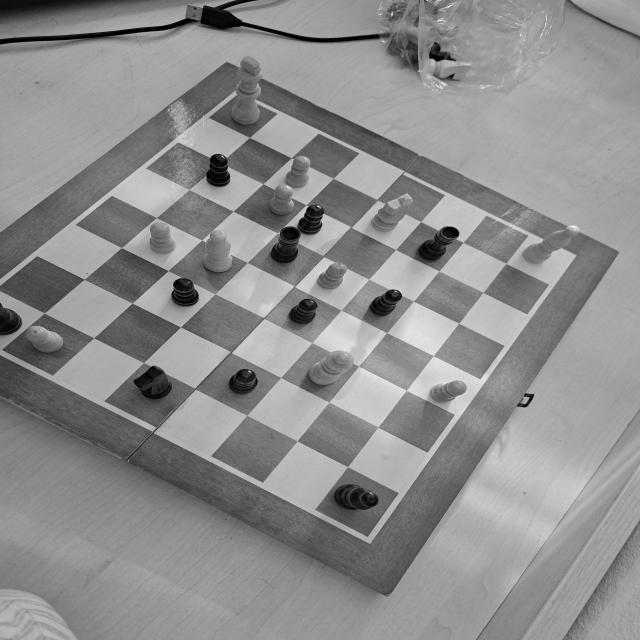chess-table-corners: (220, 83, 262, 109), (352, 526, 382, 548), (558, 248, 582, 264)
